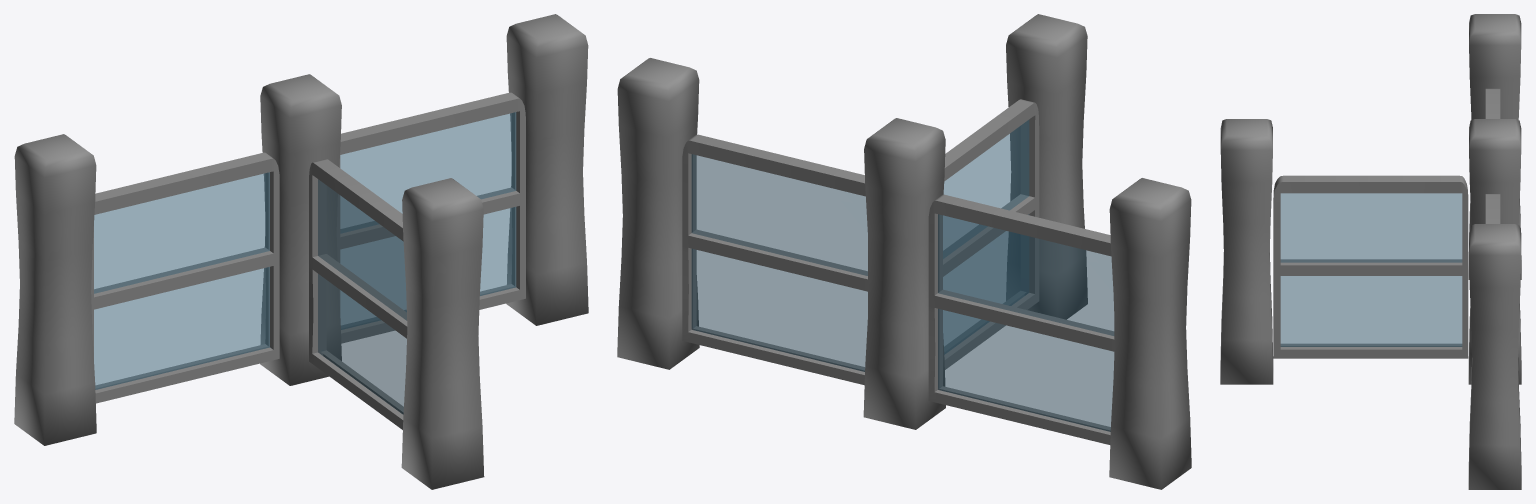
The model's file is GlassHalfWall_T_SplitBorder.glb.
3 renders of one model, left to right at view 1: azimuth 30°, elevation 25°; view 2: azimuth 150°, elevation 25°; view 3: azimuth 270°, elevation 25°, orthographic. The views are drawn at different scales.
Parts seen in each view (by area): view 1: 5-StraightGlassBorder.001, 5-StraightGlassBorder.002, 3-PostNARROWER.005, 3-PostNARROWER.006, 5-StraightGlassBorder.003, 3-PostNARROWER.004, 3-PostNARROWER.001; view 2: 5-StraightGlassBorder.002, 5-StraightGlassBorder.001, 3-PostNARROWER.005, 3-PostNARROWER.004, 3-PostNARROWER.001, 5-StraightGlassBorder.003, 3-PostNARROWER.006; view 3: 5-StraightGlassBorder.003, 3-PostNARROWER.006, 3-PostNARROWER.004, 3-PostNARROWER.001, 3-PostNARROWER.005, 5-StraightGlassBorder.001, 5-StraightGlassBorder.002.
Boxes of the visible parts, bbox=[...] form: 5-StraightGlassBorder.001: bbox=[91, 152, 279, 403]; 5-StraightGlassBorder.002: bbox=[336, 92, 525, 343]; 3-PostNARROWER.005: bbox=[14, 134, 96, 445]; 3-PostNARROWER.006: bbox=[401, 178, 484, 489]; 5-StraightGlassBorder.003: bbox=[309, 159, 407, 429]; 3-PostNARROWER.004: bbox=[506, 14, 588, 325]; 3-PostNARROWER.001: bbox=[260, 74, 341, 385]; 5-StraightGlassBorder.002: bbox=[682, 134, 869, 385]; 5-StraightGlassBorder.001: bbox=[928, 194, 1114, 444]; 3-PostNARROWER.005: bbox=[1109, 178, 1191, 489]; 3-PostNARROWER.004: bbox=[617, 58, 699, 369]; 3-PostNARROWER.001: bbox=[863, 118, 945, 429]; 5-StraightGlassBorder.003: bbox=[943, 99, 1039, 369]; 3-PostNARROWER.006: bbox=[1006, 14, 1087, 319]; 5-StraightGlassBorder.003: bbox=[1273, 175, 1468, 358]; 3-PostNARROWER.006: bbox=[1220, 119, 1273, 384]; 3-PostNARROWER.004: bbox=[1468, 224, 1521, 489]; 3-PostNARROWER.001: bbox=[1468, 119, 1521, 384]; 3-PostNARROWER.005: bbox=[1468, 14, 1521, 279]; 5-StraightGlassBorder.001: bbox=[1485, 88, 1500, 118]; 5-StraightGlassBorder.002: bbox=[1485, 194, 1500, 223].
Bounding box in the file's own units: 2.01 × 0.9929 × 1.1.
Materials: 3 (3 with a texture image).
